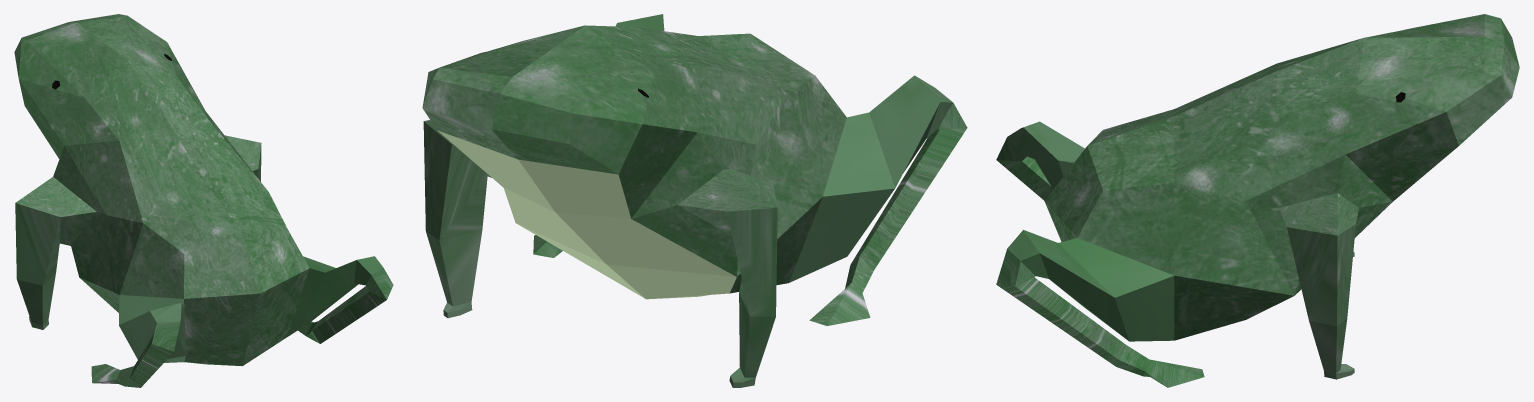
Rendered from Sapooooo.fbx.
3 views of the same model, side by side, from view 1: azimuth 30°, elevation 25°; view 2: azimuth 150°, elevation 25°; view 3: azimuth 270°, elevation 25° (orthographic). The views are drawn at different scales.
Visible parts, largest first — view 1: Cube; view 2: Cube; view 3: Cube.
Boxes of the visible parts, <box> form: Cube: <box>14,14,393,387</box>; Cube: <box>422,14,967,387</box>; Cube: <box>996,14,1519,387</box>.
Size of the model in its own units: 239 by 229 by 366.
Materials: 3 (1 with a texture image).
